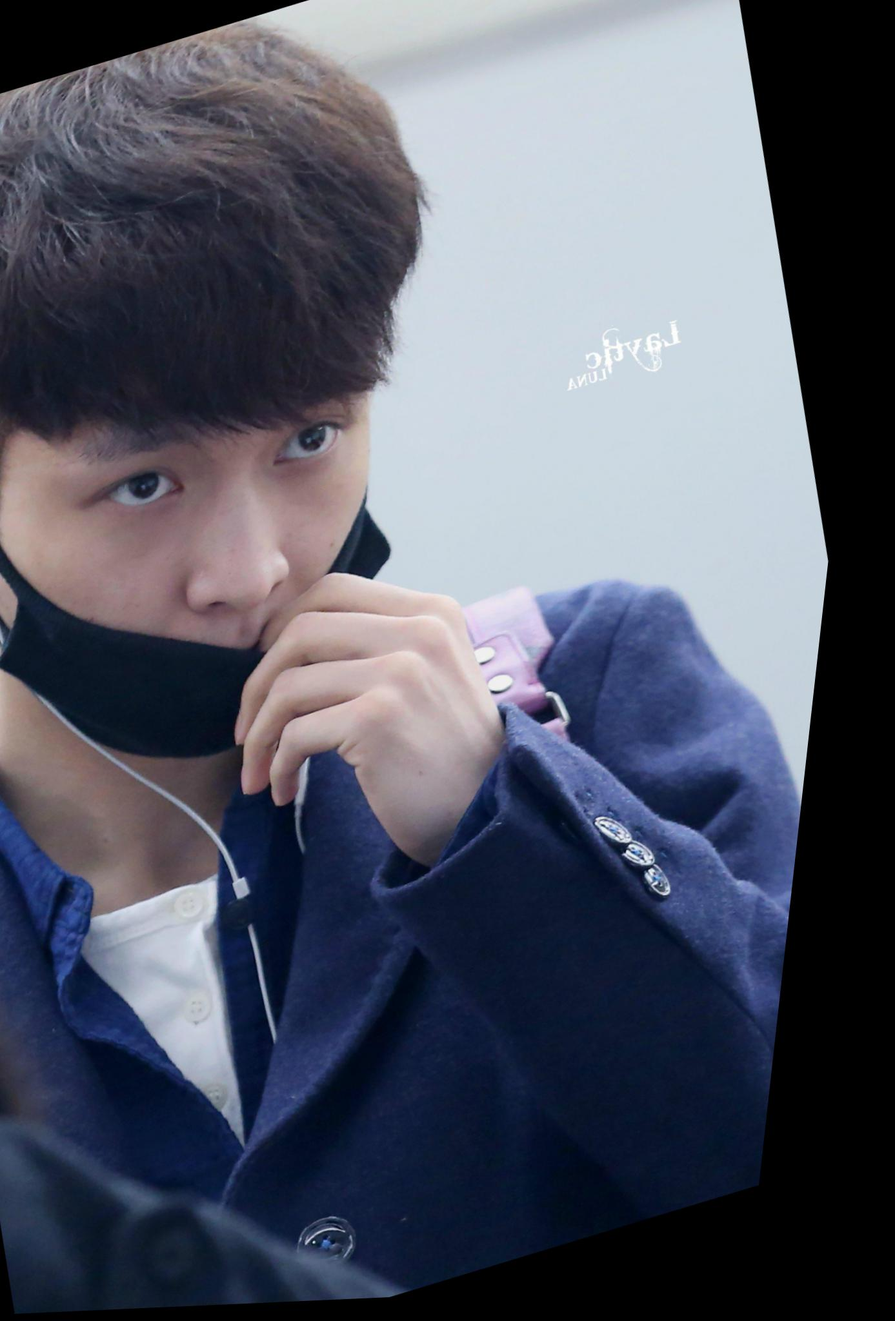WRONG: (1, 352, 445, 795)
